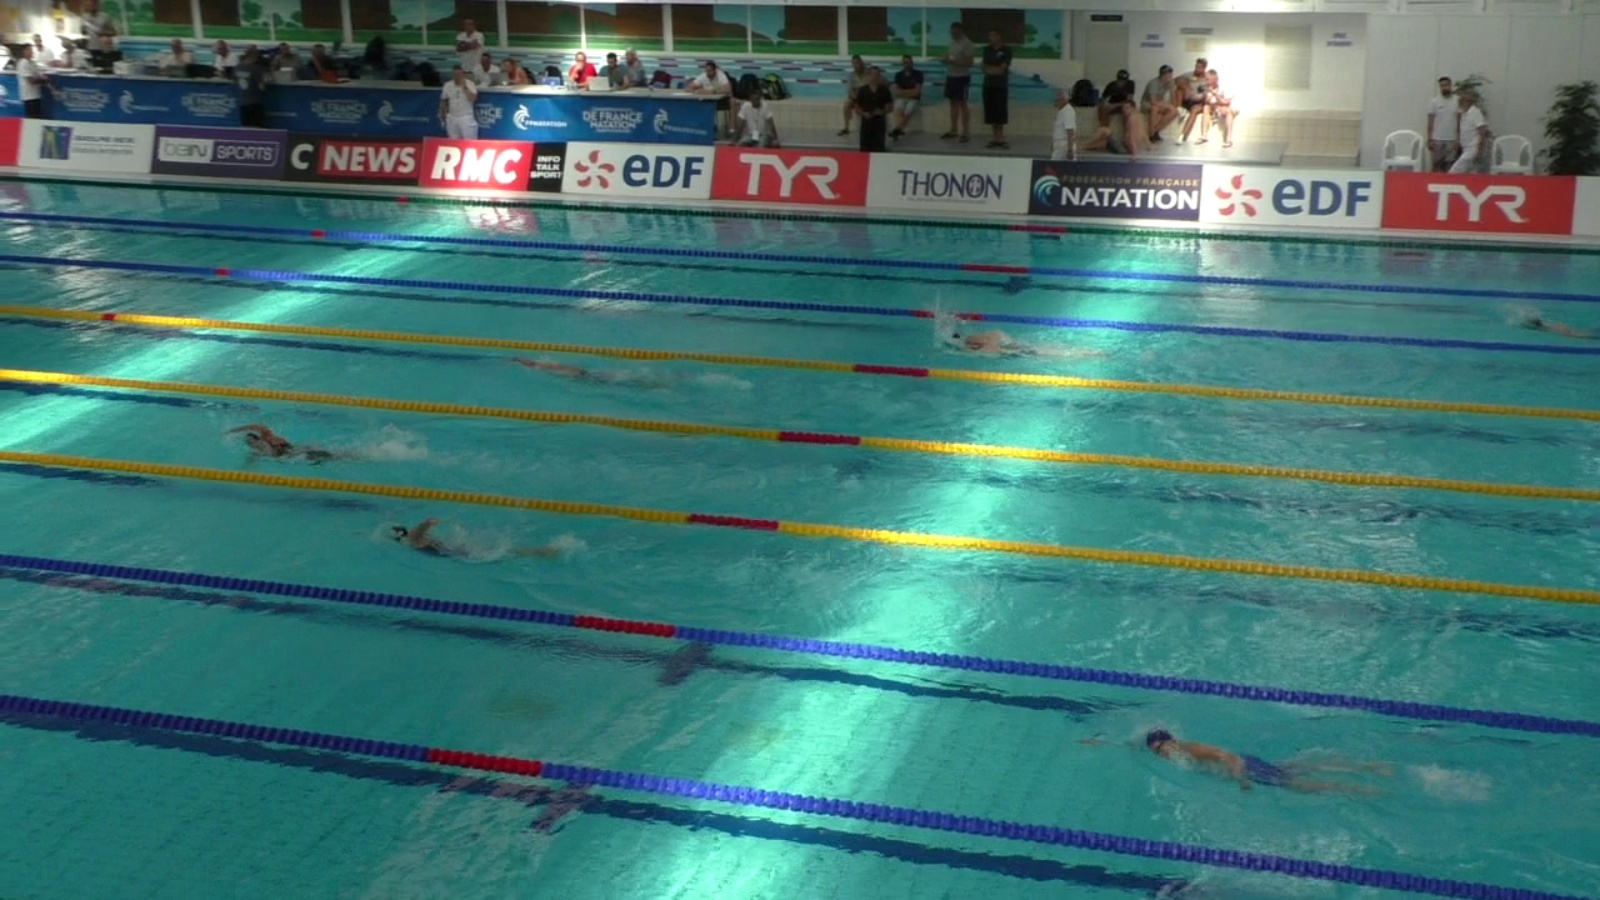swimmerw: (1138, 729, 1390, 812), (215, 421, 387, 468), (379, 516, 541, 562), (941, 324, 1093, 369), (522, 359, 678, 395), (1509, 311, 1600, 342)
